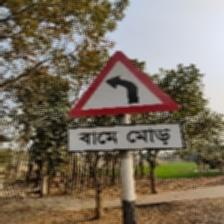Left-Turn: (65, 50, 185, 155)
